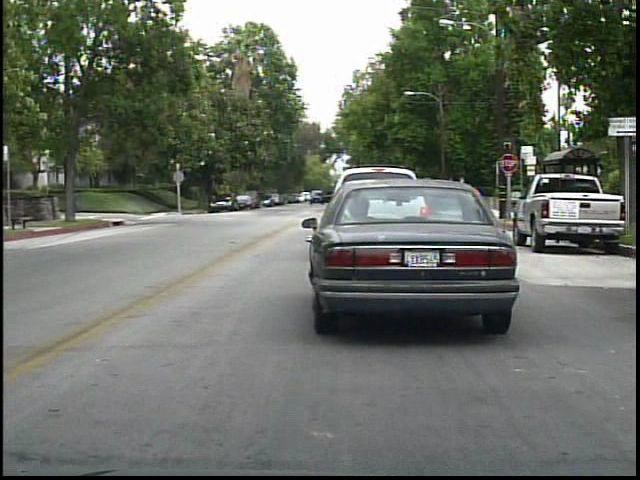person: (236, 182, 251, 210)
